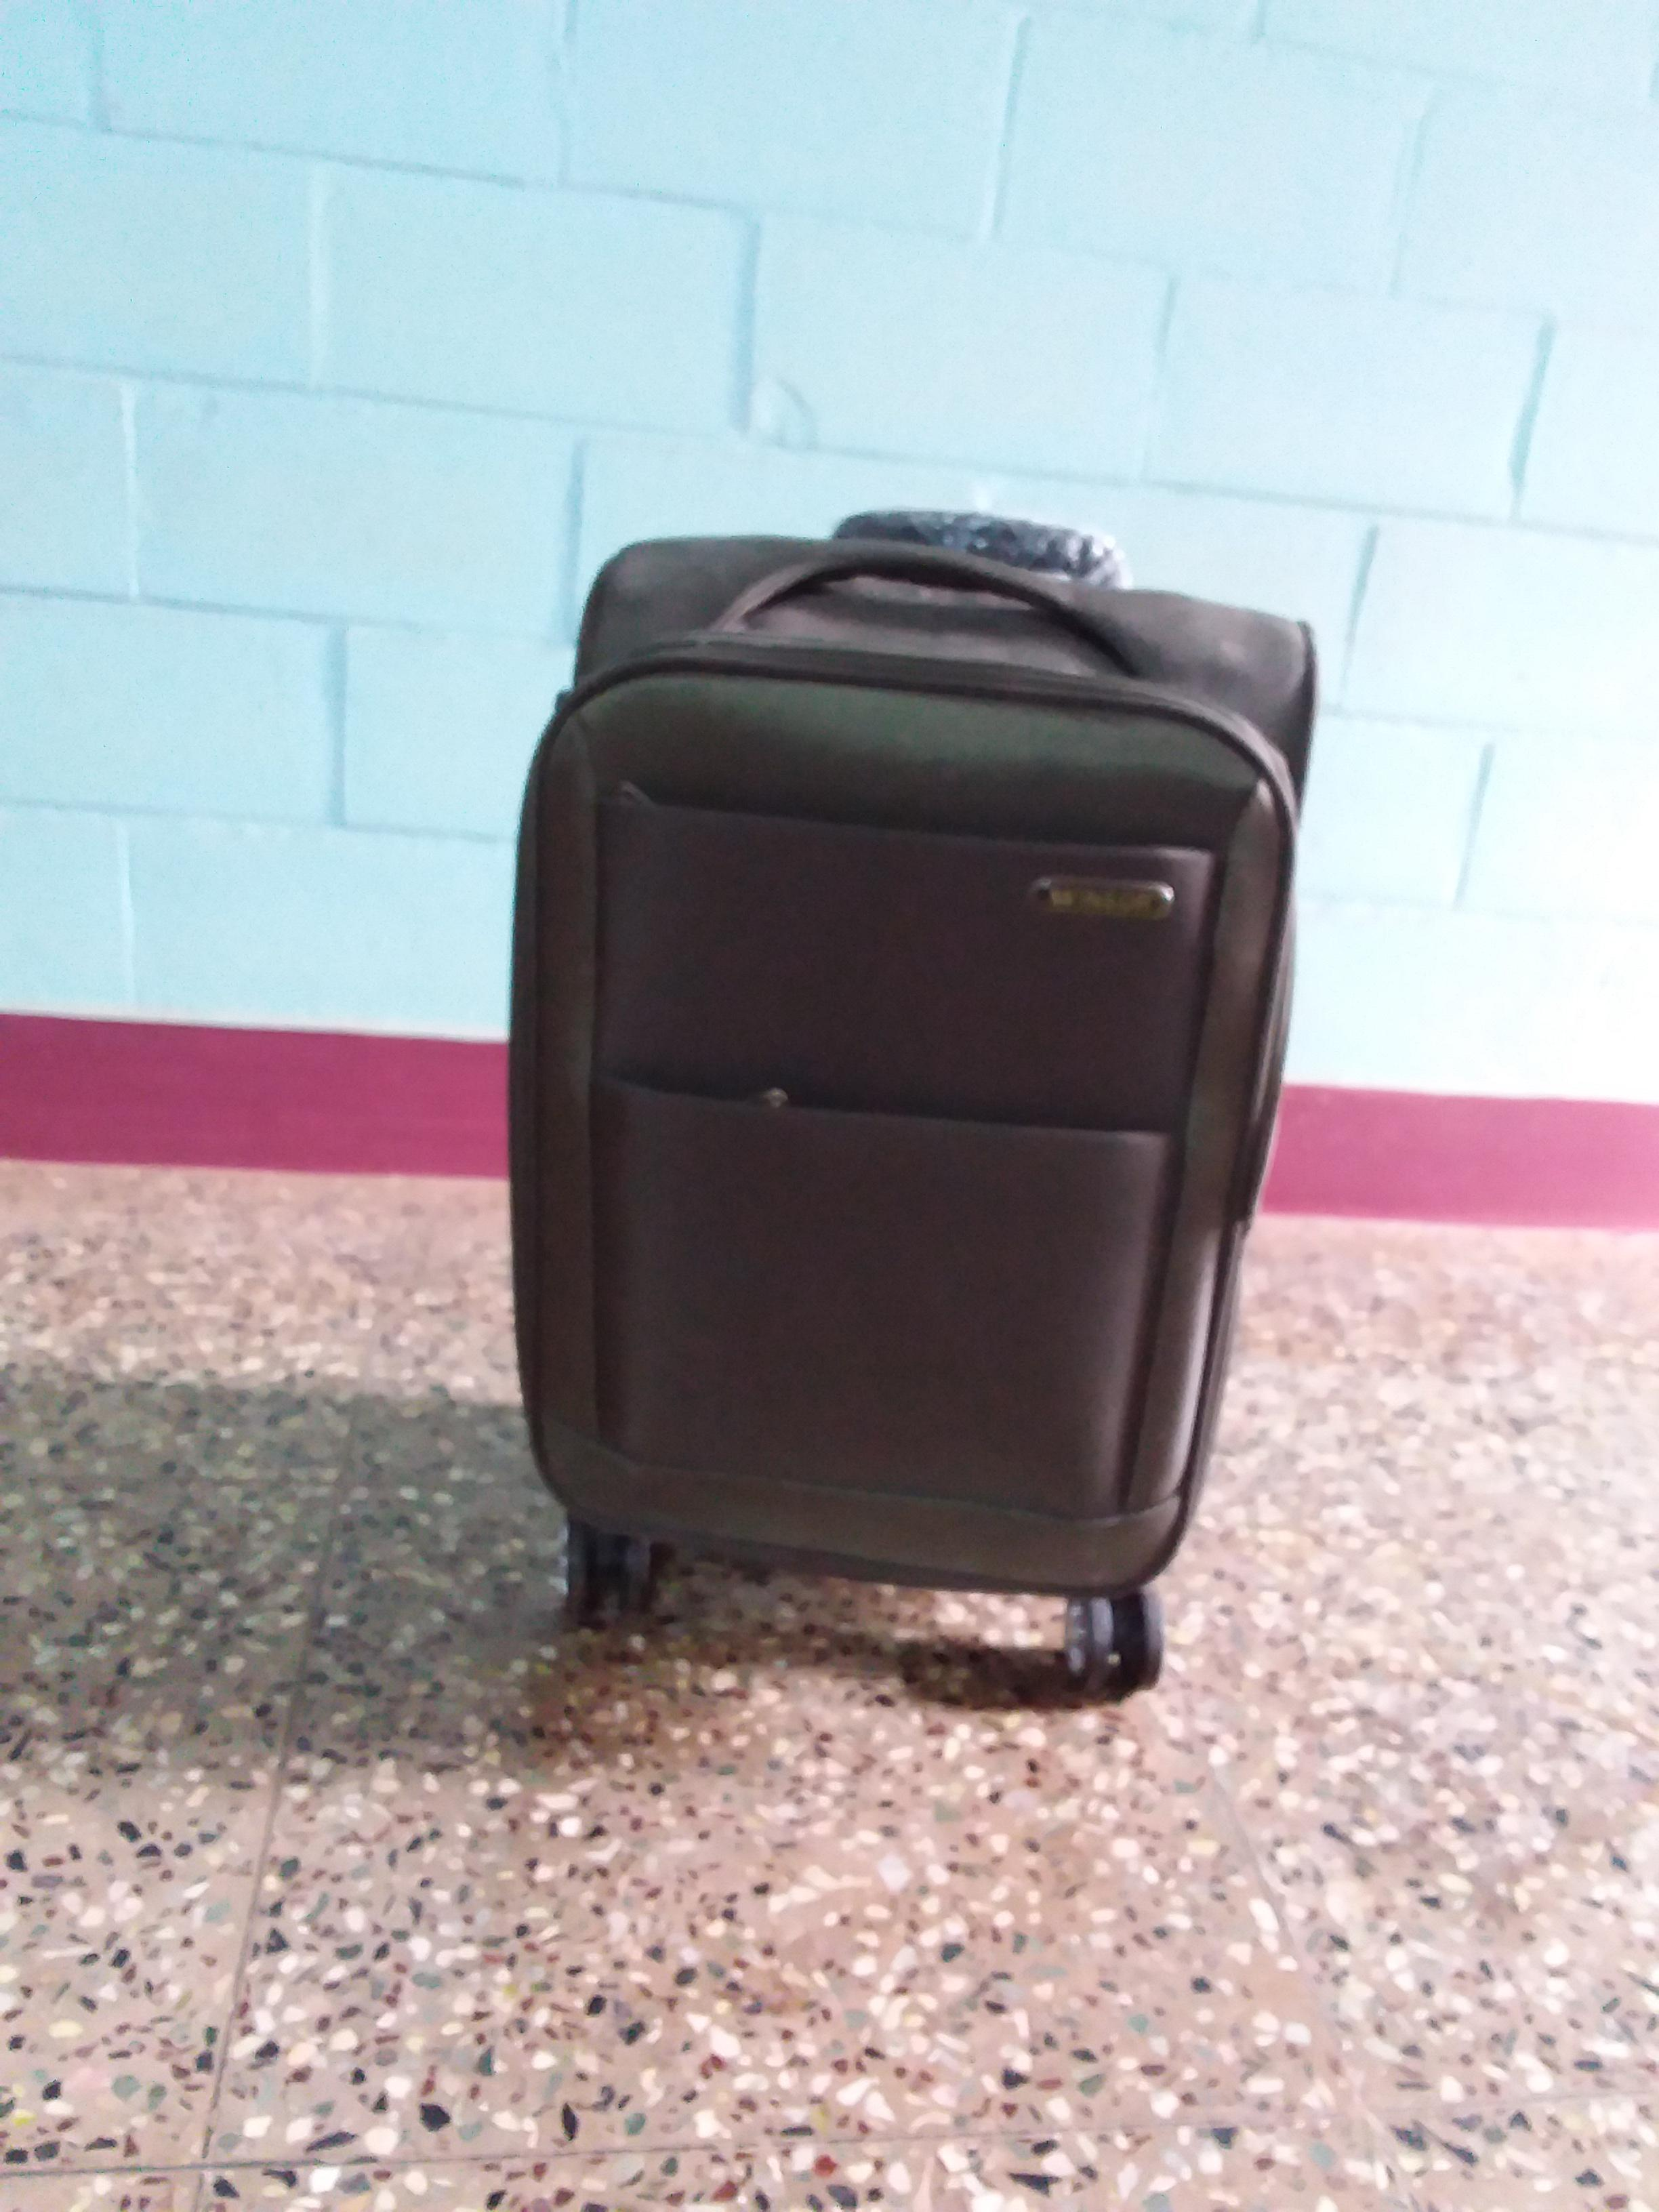suitcase: (500, 516, 1326, 1609)
